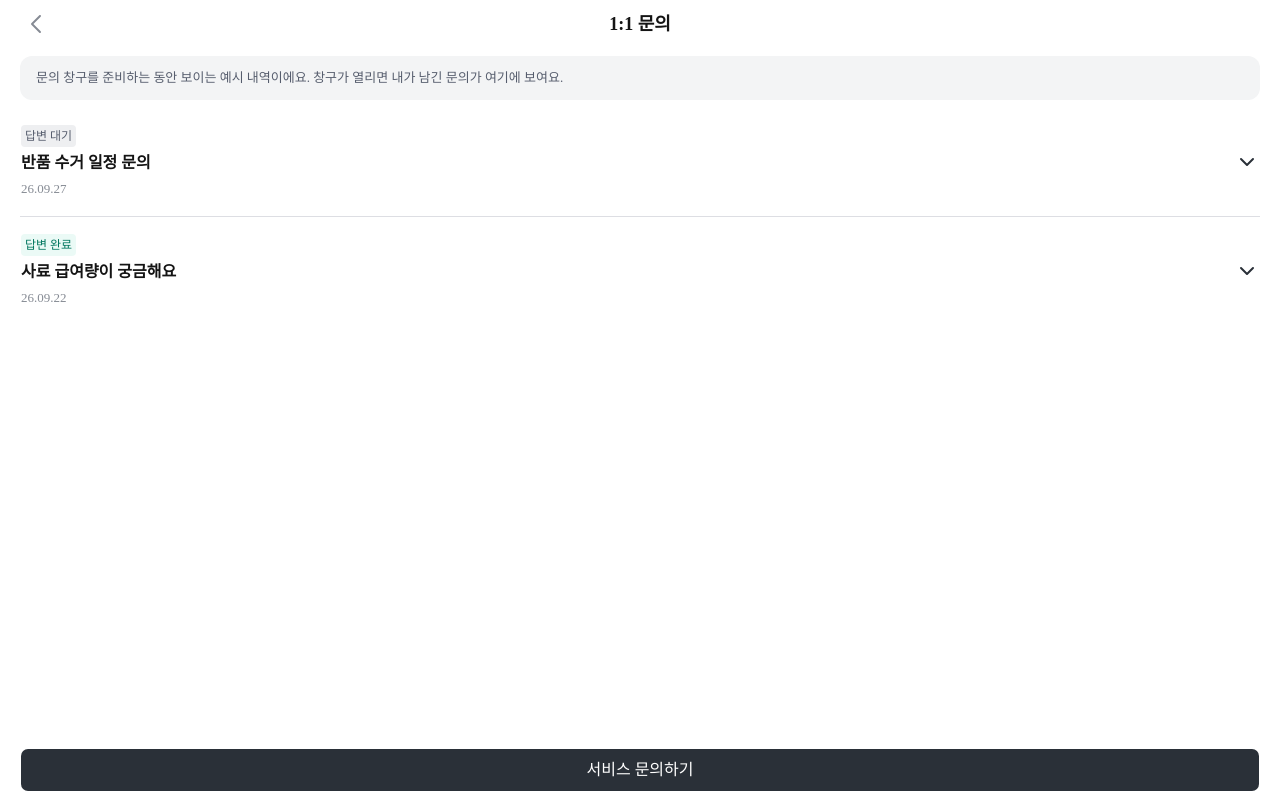
서비스 문의하기는 문의 창구가 준비 중임을 알린다
Click the button "서비스 문의하기" at (640, 770), box [20,748,1260,792]
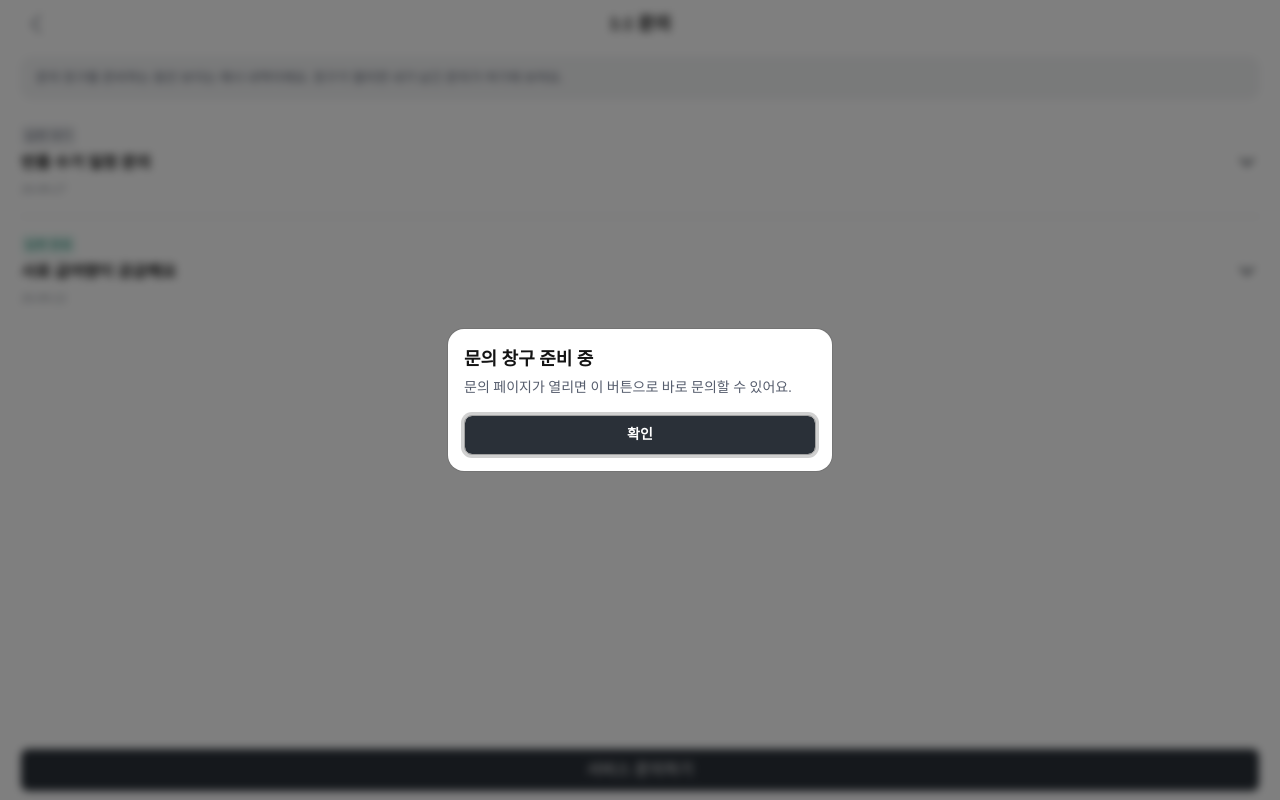
Expected: the dialog "문의 창구 준비 중" is shown, [448,329,832,471]
